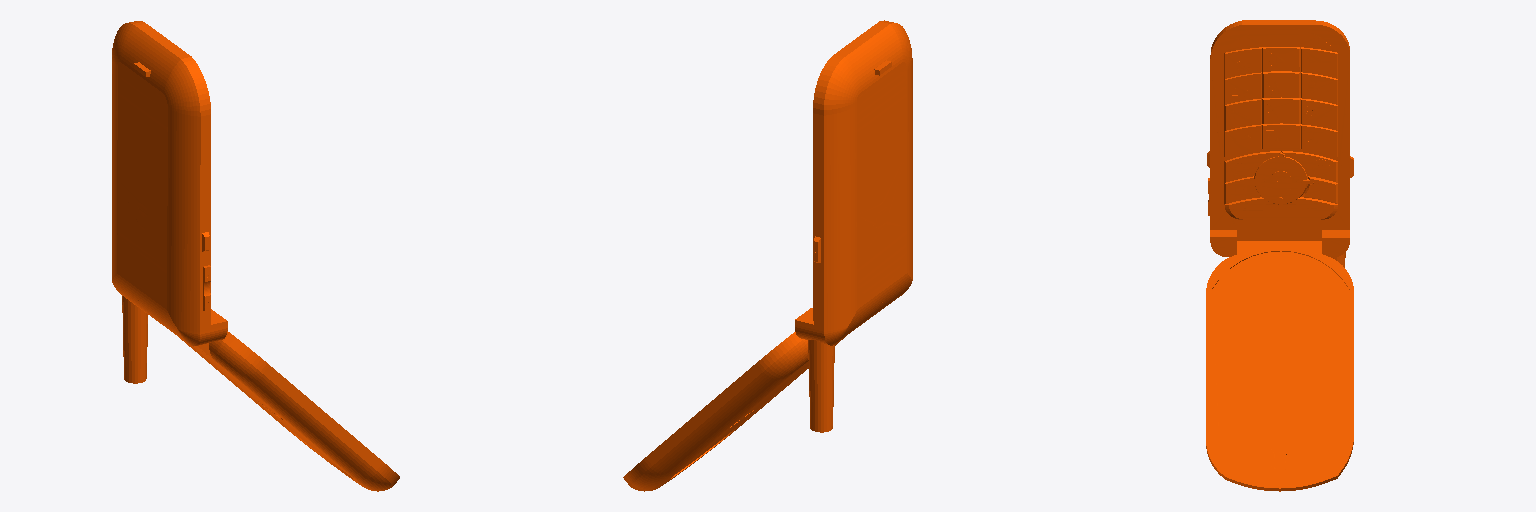
URDF robot description (2024-09-16_3_CellPhone_4e):
<?xml version="1.0" ?>
<robot name="2024-09-16_3_CellPhone_4e">
   <material name="obj_color">
      <color rgba="1.0 0.423529411765 0.0392156862745 1.0"/>
   </material>
   <link name="top">
      <inertial>
         <origin rpy="-0.00140325106739915 -0.00134686820246557 -0.0001701321147354205" xyz="0.03199770924327245 0.03572647931191103 0.0952512015793338"/>
         <mass value="-0.3277563590873694"/>
         <inertia ixx="-0.001171844001143542" ixy="-3.435646768350977e-06" ixz="-0.0004812020975122211" iyy="-0.001347115496201947" iyz="-1.453082302320037e-06" izz="-0.0004012918872546505"/>
      </inertial>
      <visual>
         <origin rpy="0 0 0" xyz="0 0 0"/>
         <geometry>
            <mesh filename="top_watertight_tiny.stl" scale="1 1 1"/>
         </geometry>
         <material name="obj_color"/>
      </visual>
      <collision>
         <origin rpy="0 0 0" xyz="0 0 0"/>
         <geometry>
            <mesh filename="top_watertight_tiny.obj" scale="1 1 1"/>
         </geometry>
      </collision>
   </link>
   <link name="bottom">
      <inertial>
         <origin rpy="1.633333333199431e-08 1.633333333199431e-08 1.633333333362855e-08" xyz="0.3464080000000008 0.3464080000000008 0.3464080000000008"/>
         <mass value="0.0009800000000000017"/>
         <inertia ixx="1.633333333253906e-08" ixy="5.447480642029219e-19" ixz="5.447480642029219e-19" iyy="1.633333333253906e-08" iyz="5.447480642029219e-19" izz="1.633333333253906e-08"/>
      </inertial>
      <visual>
         <origin rpy="0 0 0" xyz="0 0 0"/>
         <geometry>
            <mesh filename="bottom_watertight_tiny.stl" scale="1 1 1"/>
         </geometry>
         <material name="obj_color"/>
      </visual>
   </link>
   <link name="world"/>
   <joint name="world_to_base" type="fixed">
      <origin xyz="0 0 0"/>
      <axis xyz="0 0 0"/>
      <parent link="world"/>
      <child link="bottom"/>
   </joint>
   <joint name="rotation" type="revolute">
      <origin xyz="0 0 0"/>
      <axis xyz="0 0 -1"/>
      <parent link="bottom"/>
      <child link="top"/>
      <dynamics damping="1.0" friction="1.0"/>
      <limit effort="0.1" velocity="0.1" lower="0" upper="0.001"/>
   </joint>
</robot>

--- Render facts (derived) ---
Views: 3 orthographic renders of the robot side by side, from view 1: azimuth 30°, elevation 25°; view 2: azimuth 150°, elevation 25°; view 3: azimuth 270°, elevation 25°.
Model 2024-09-16_3_CellPhone_4e with 3 links and 2 joints (1 revolute, 1 fixed), rooted at world, posed every joint at zero.
Visible links, largest first — view 1: top; view 2: top; view 3: top.
Boxes of the visible links, x1,y1,x2,y2 form: top: (112, 21, 399, 491); top: (623, 20, 912, 491); top: (1206, 20, 1353, 491).
Size in the robot's own frame: 0.1051 by 0.0705 by 0.2049 metres.
1 mesh visuals loaded from 2 distinct referenced files (1 binary STL); not drawn: 1 (reference not matched to a file when rendering).
